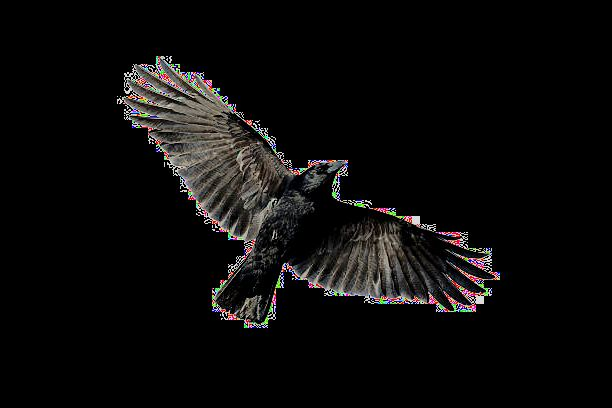Bird: (112, 49, 502, 329)
